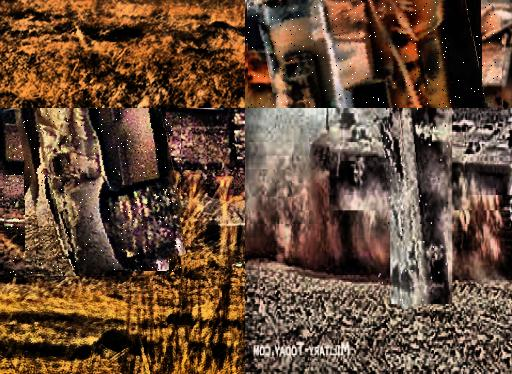tanks: (13, 109, 181, 277), (253, 1, 463, 109), (380, 110, 449, 303), (504, 235, 512, 253), (505, 214, 512, 229)
